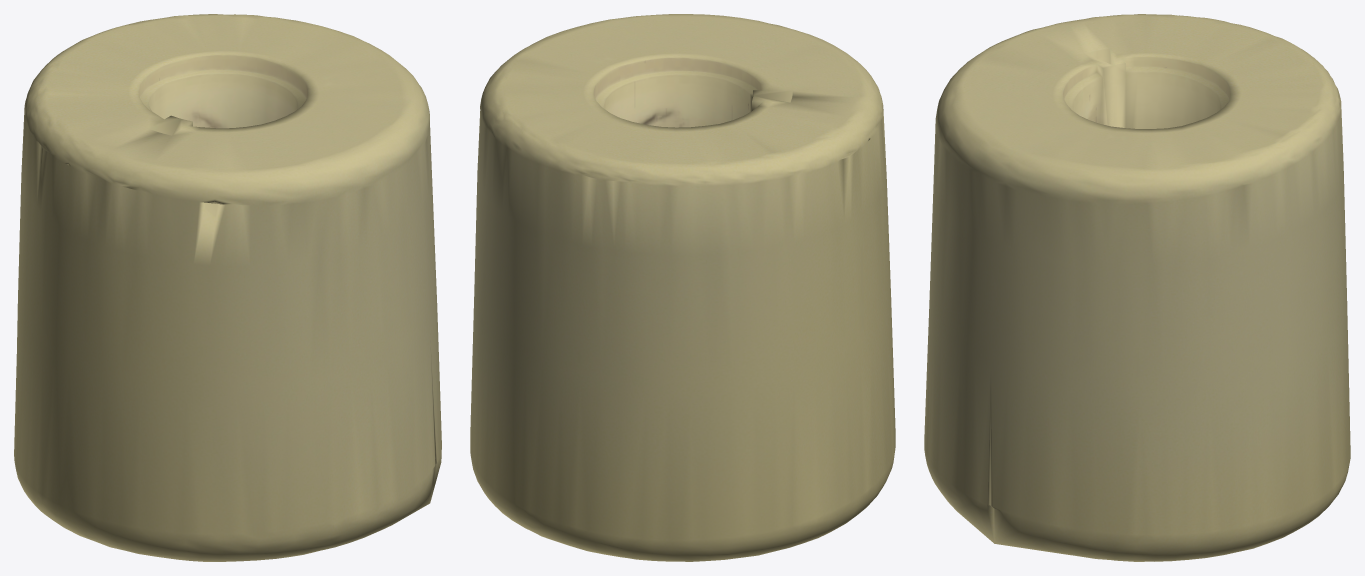
File: yellow cylindrical spacer 3d model.glb
The picture shows the model from 3 angles, left to right: view 1: azimuth 30°, elevation 25°; view 2: azimuth 150°, elevation 25°; view 3: azimuth 270°, elevation 25°; orthographic projection.
Parts seen in each view (by area): view 1: tripo_node_d4999373-d13e-448b-822a-f57facccec94; view 2: tripo_node_d4999373-d13e-448b-822a-f57facccec94; view 3: tripo_node_d4999373-d13e-448b-822a-f57facccec94.
Boxes of the visible parts, left/top/right/bottom form: tripo_node_d4999373-d13e-448b-822a-f57facccec94: left=14, top=14, right=441, bottom=561; tripo_node_d4999373-d13e-448b-822a-f57facccec94: left=470, top=14, right=895, bottom=561; tripo_node_d4999373-d13e-448b-822a-f57facccec94: left=924, top=14, right=1350, bottom=561.
Bounding box in the file's own units: 0.9746 × 0.998 × 0.9746.
1 material, 1 textured.
